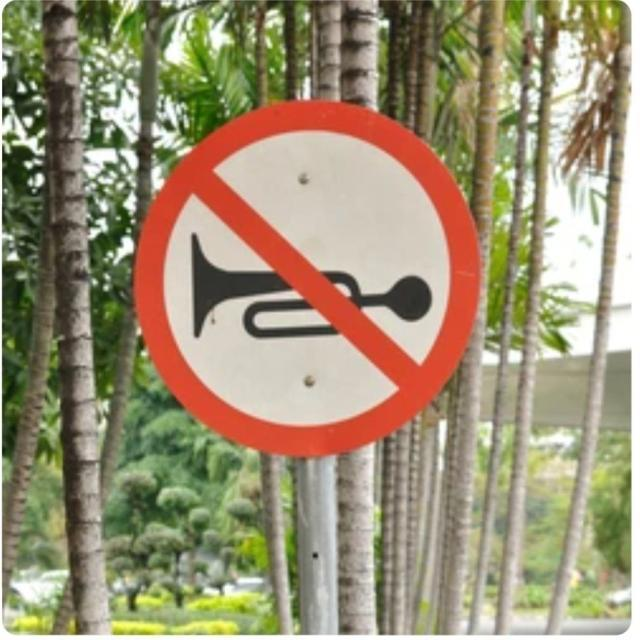horn prohibited: (130, 101, 479, 460)
